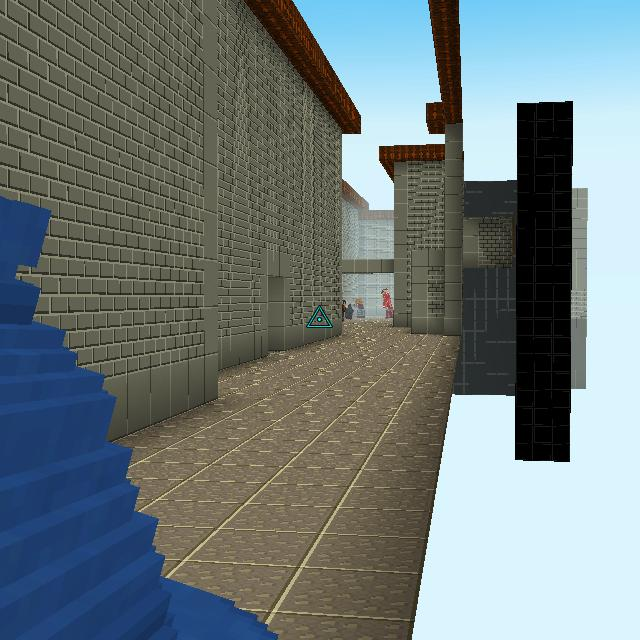enemy: (354, 298, 367, 318), (381, 287, 392, 308), (385, 302, 394, 319), (342, 300, 345, 323)
